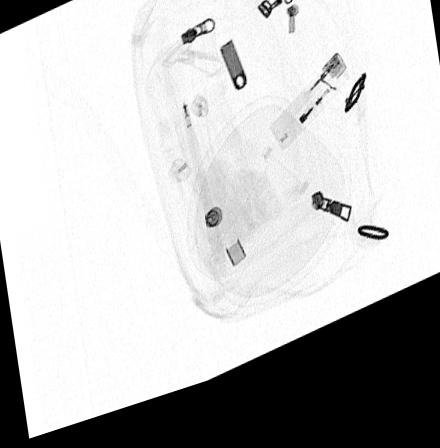Lighter: (270, 71, 351, 168)
